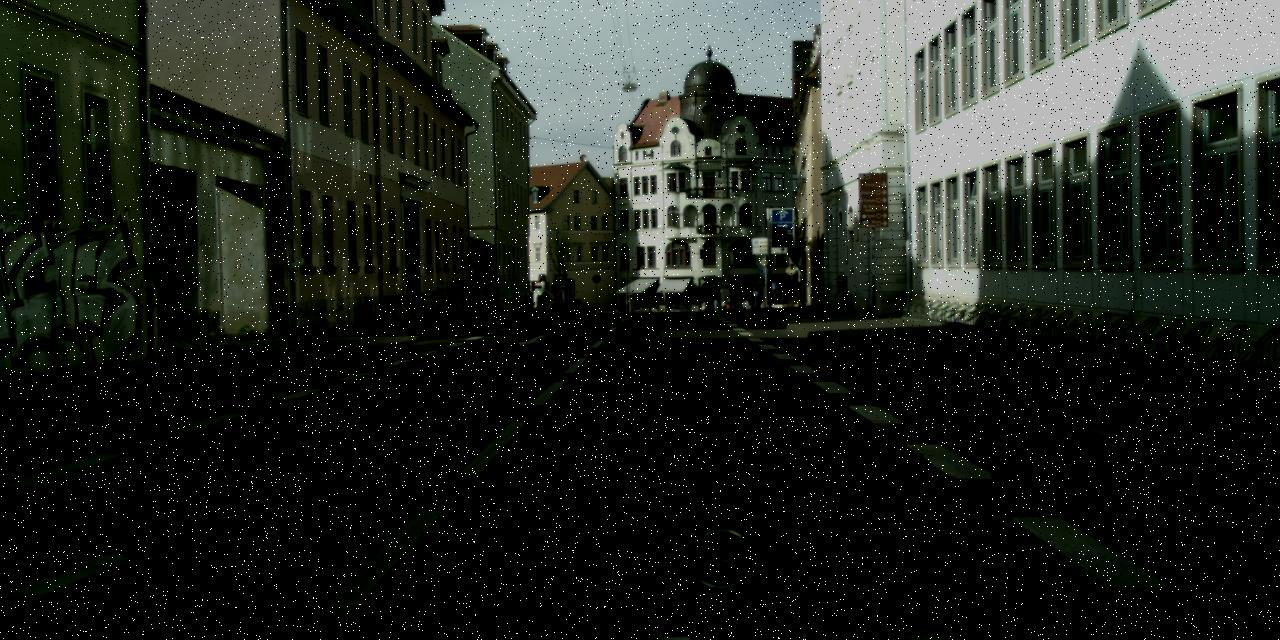ped: (713, 298, 738, 312), (742, 300, 752, 310)
